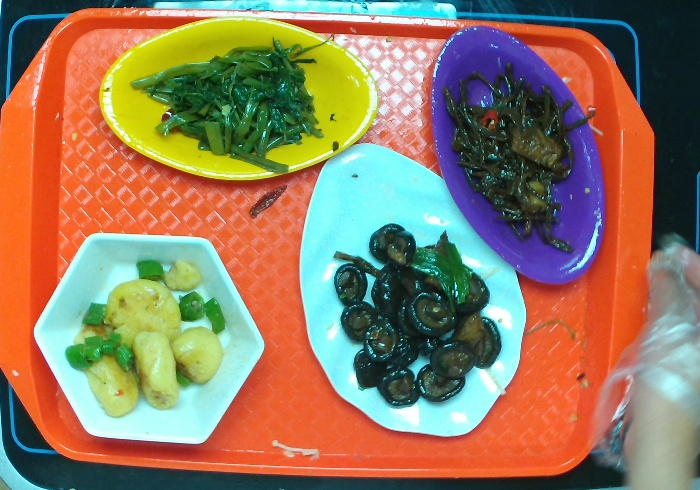RJxy-Bai_Ye_Pan: (296, 131, 531, 443)
RJxy-Fen_Hong_Tuo_Yuan: (423, 20, 614, 292)
RJxy-Huang_Se_Tuo_Yuan: (96, 11, 383, 189)
RJxy-Liu_Jiao_Wan: (29, 211, 262, 452)
